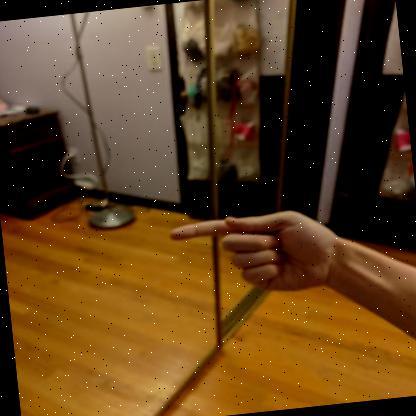G: (170, 209, 341, 291)
